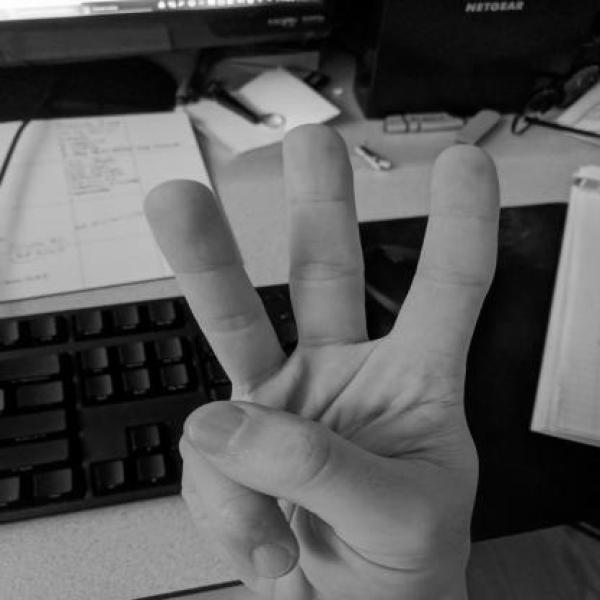W: (138, 118, 508, 600)
